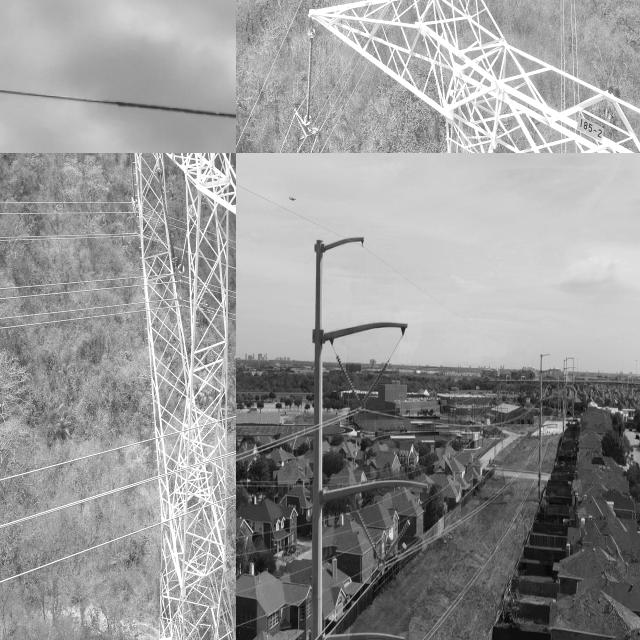杆塔: (276, 0, 640, 153), (132, 153, 236, 640)
正常电缆: (0, 514, 158, 591), (0, 470, 156, 537), (0, 430, 152, 493), (0, 306, 142, 333), (0, 297, 139, 322), (0, 283, 142, 305), (0, 271, 138, 293), (0, 226, 135, 245), (0, 206, 131, 218), (0, 196, 130, 206)
正常绝缘子: (300, 16, 325, 144), (377, 511, 414, 568), (354, 505, 386, 567), (354, 358, 390, 411), (335, 353, 365, 411)
